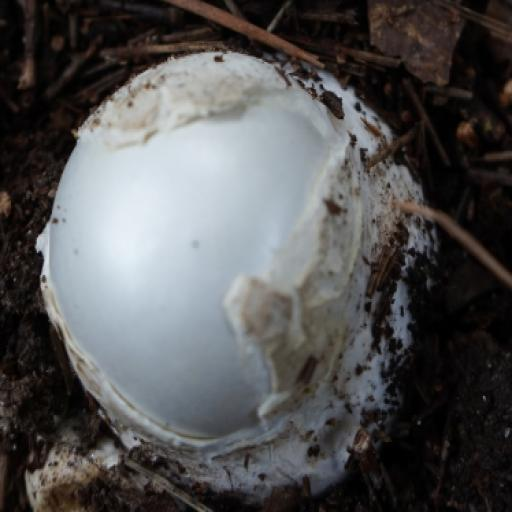mushroom: (0, 13, 371, 458)
